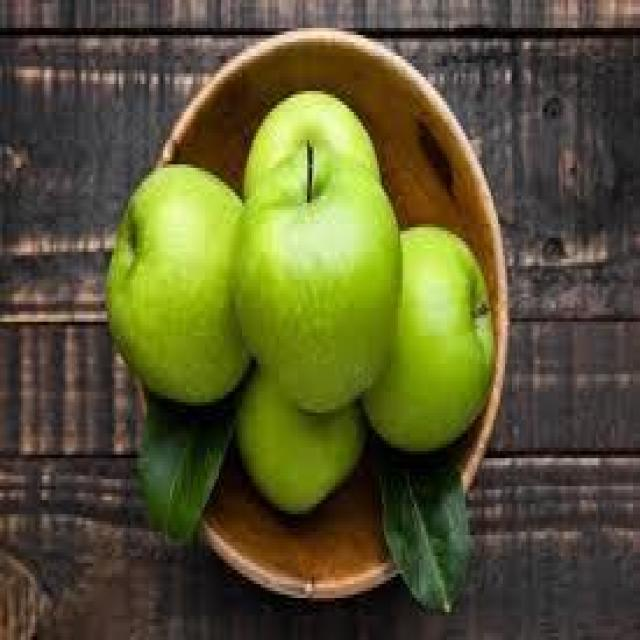maca: (102, 84, 496, 521)
